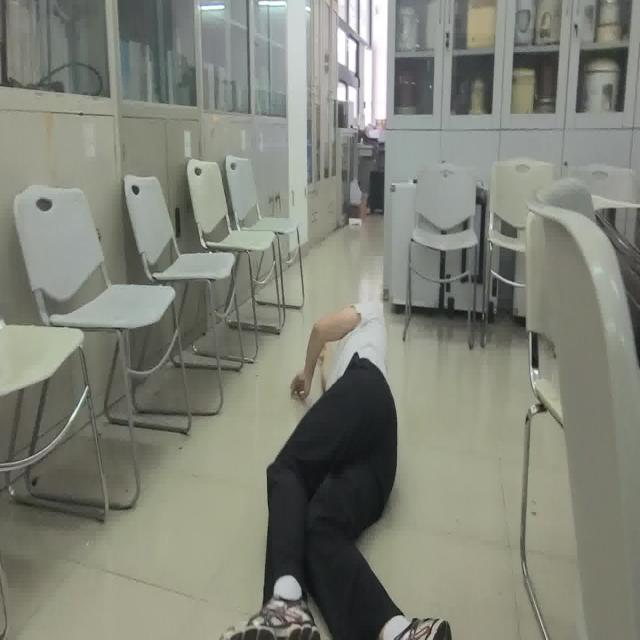fall: (218, 296, 454, 640)
